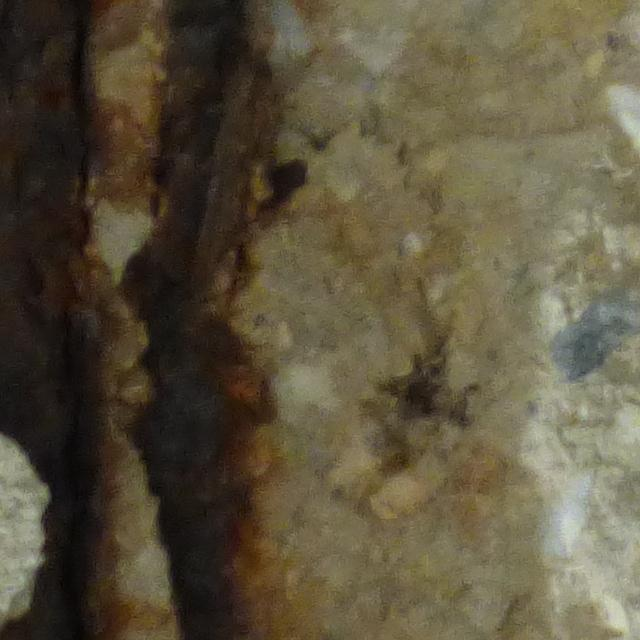Rust: (122, 1, 293, 640), (1, 3, 124, 640)
